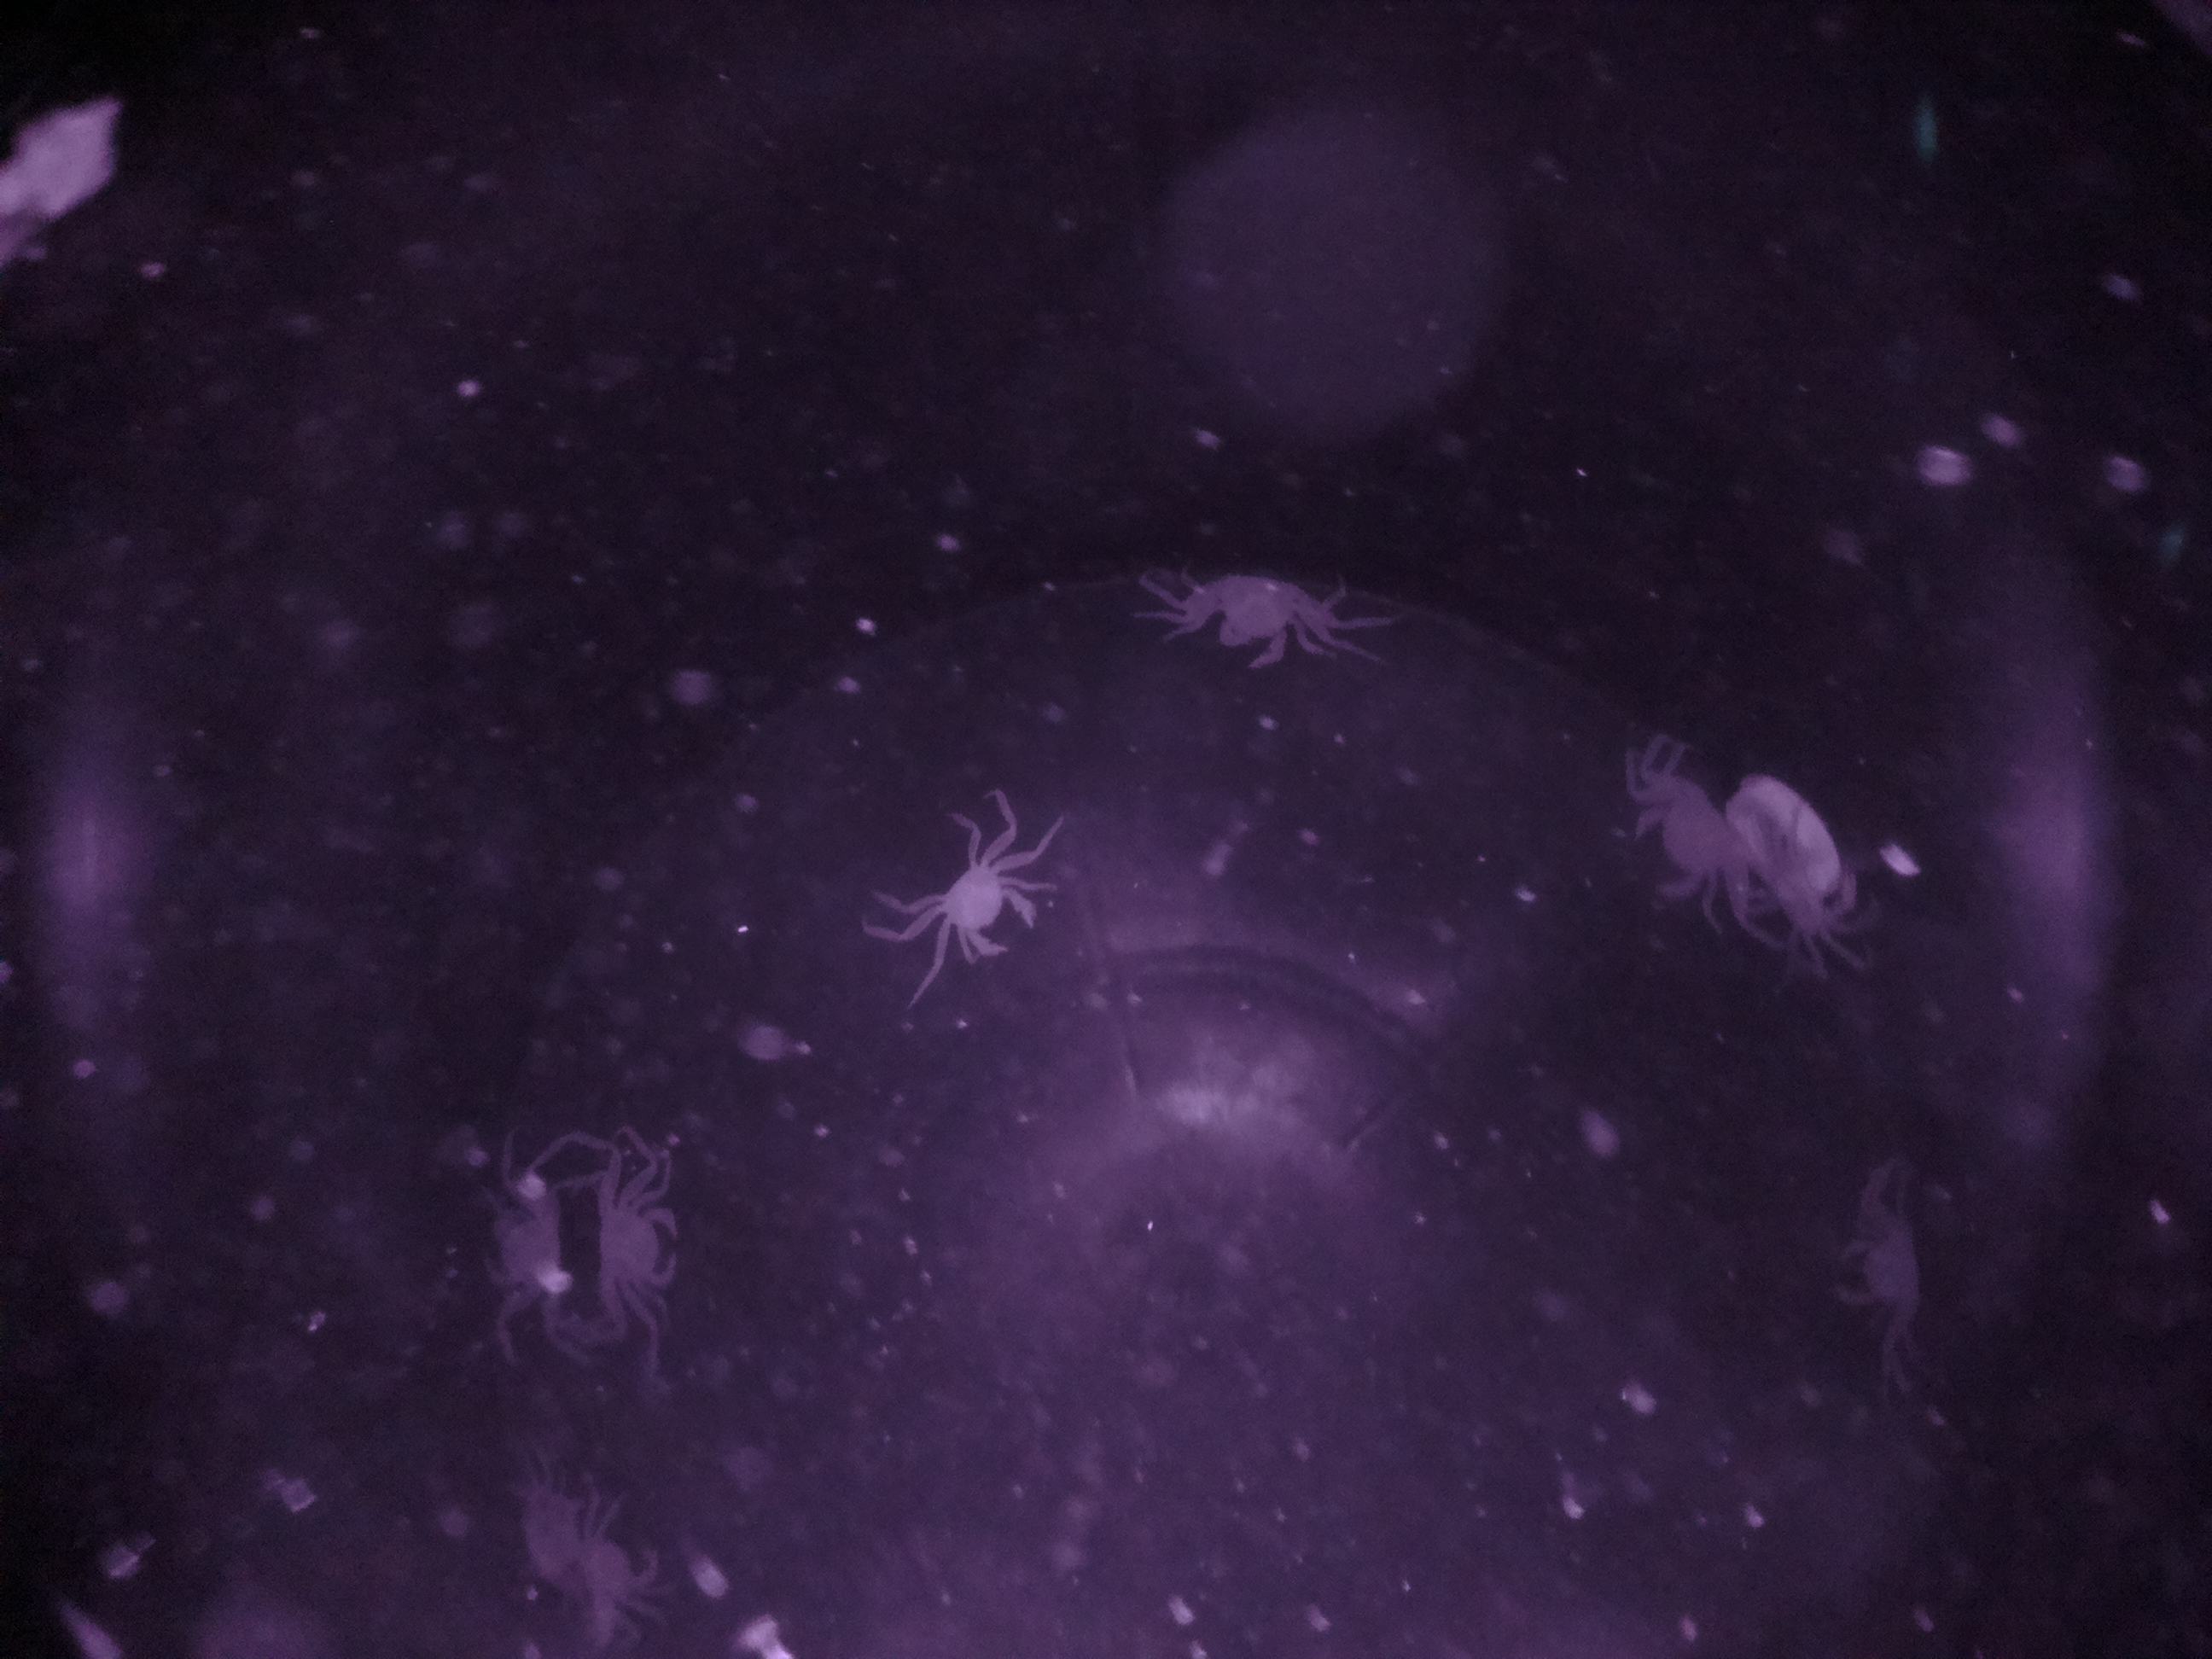Crab: (1602, 755, 1759, 918), (458, 1150, 573, 1352), (914, 833, 1061, 986), (1163, 554, 1324, 681), (589, 1162, 695, 1354)
